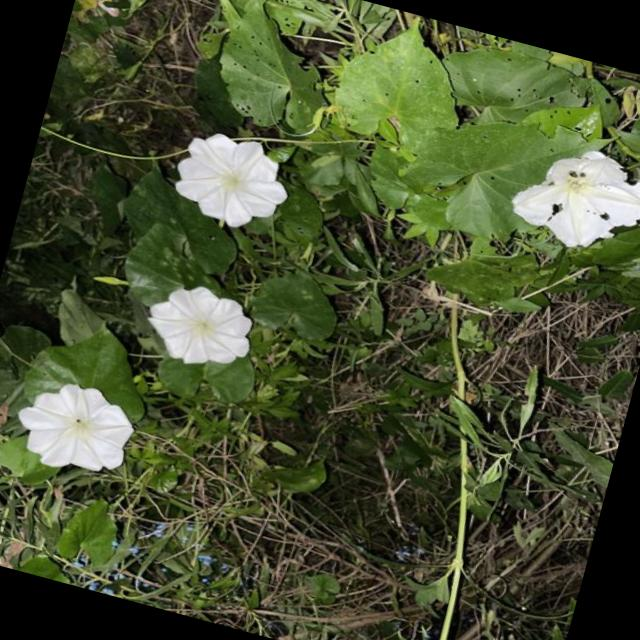ipomoea: (499, 128, 640, 268), (2, 366, 146, 488), (160, 119, 302, 242), (133, 270, 266, 382)
